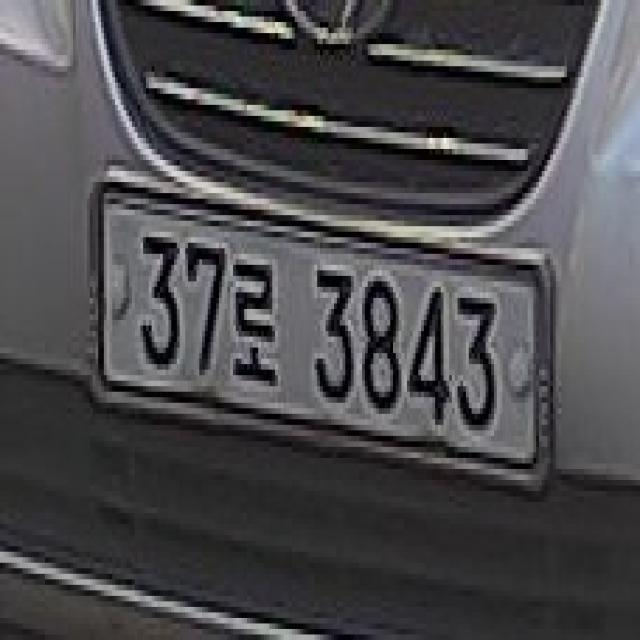plat: (85, 166, 559, 496)
